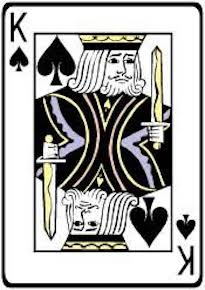KingOfSpades: (2, 3, 205, 288)
